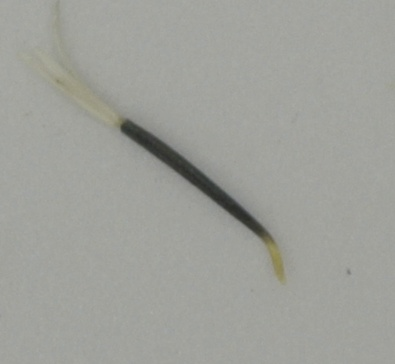เมล็ดดีเรียวยาว: (22, 23, 288, 281)
